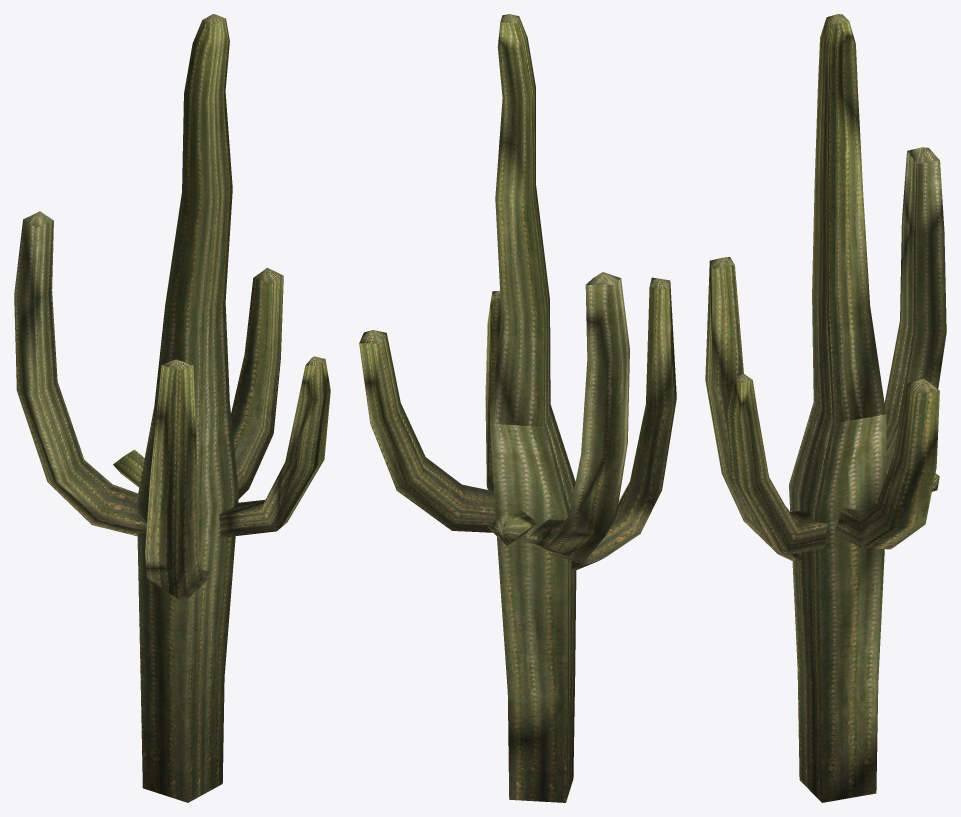
Rendered from VegetationDesert003a_lod1.glb.
3 renders of one model, left to right at view 1: azimuth 30°, elevation 25°; view 2: azimuth 150°, elevation 25°; view 3: azimuth 270°, elevation 25°, orthographic. The views are drawn at different scales.
Parts seen in each view (by area): view 1: vegetation_desert003a_lod1; view 2: vegetation_desert003a_lod1; view 3: vegetation_desert003a_lod1.
Part boxes in pixels (x1,y1,x2,y2): vegetation_desert003a_lod1: (14,14,330,802); vegetation_desert003a_lod1: (359,14,676,802); vegetation_desert003a_lod1: (705,14,946,802).
Size of the model in its own units: 3.15 by 8.75 by 2.43.
1 material, 1 textured.
